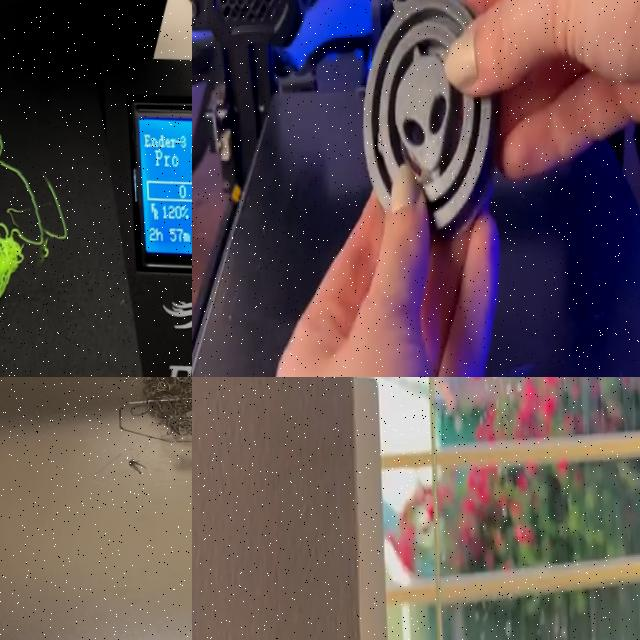spaghetti: (119, 377, 192, 470), (111, 455, 155, 481)
